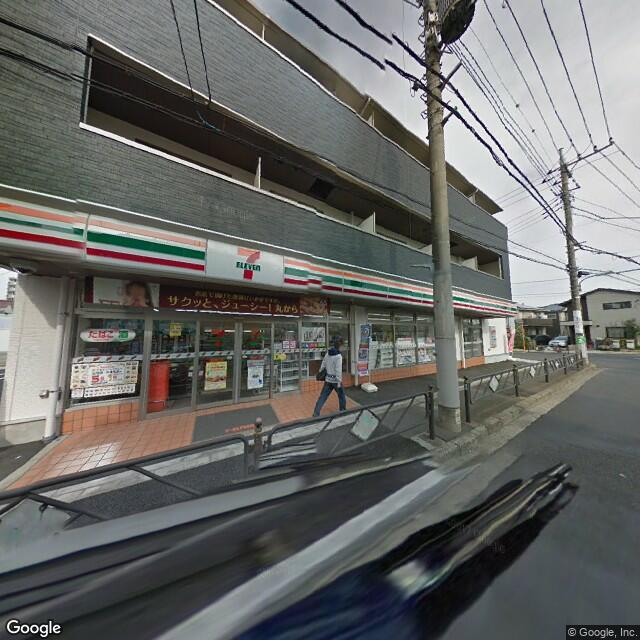7-eleven: (2, 196, 520, 321)
